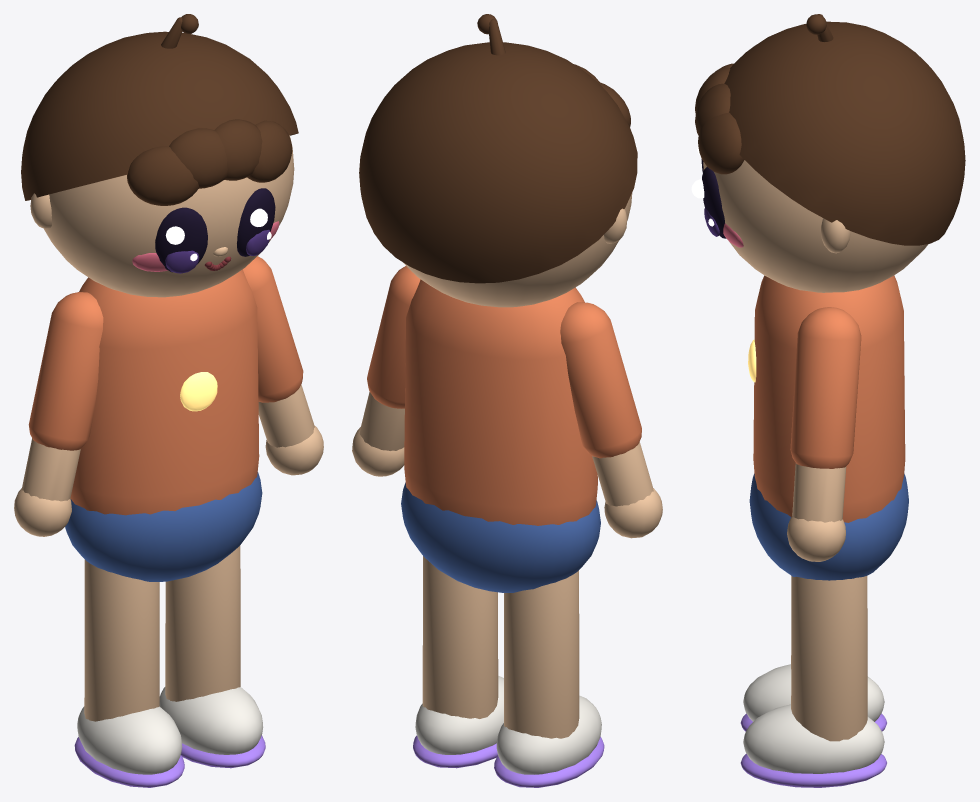
The model's file is boy9.glb.
3 renders of one model, left to right at view 1: azimuth 30°, elevation 25°; view 2: azimuth 150°, elevation 25°; view 3: azimuth 270°, elevation 25°, orthographic.
Parts seen in each view (by area): view 1: boy9; view 2: boy9; view 3: boy9.
Boxes of the visible parts, box(x1,y1,x2,y2) form: boy9: box(14, 14, 323, 787); boy9: box(352, 14, 662, 787); boy9: box(691, 14, 965, 787).
Size of the model in its own units: 0.5926 by 1.39 by 0.4581.
